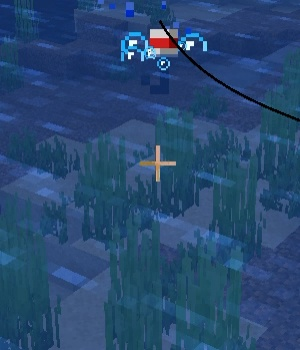up: (140, 23, 182, 95)
